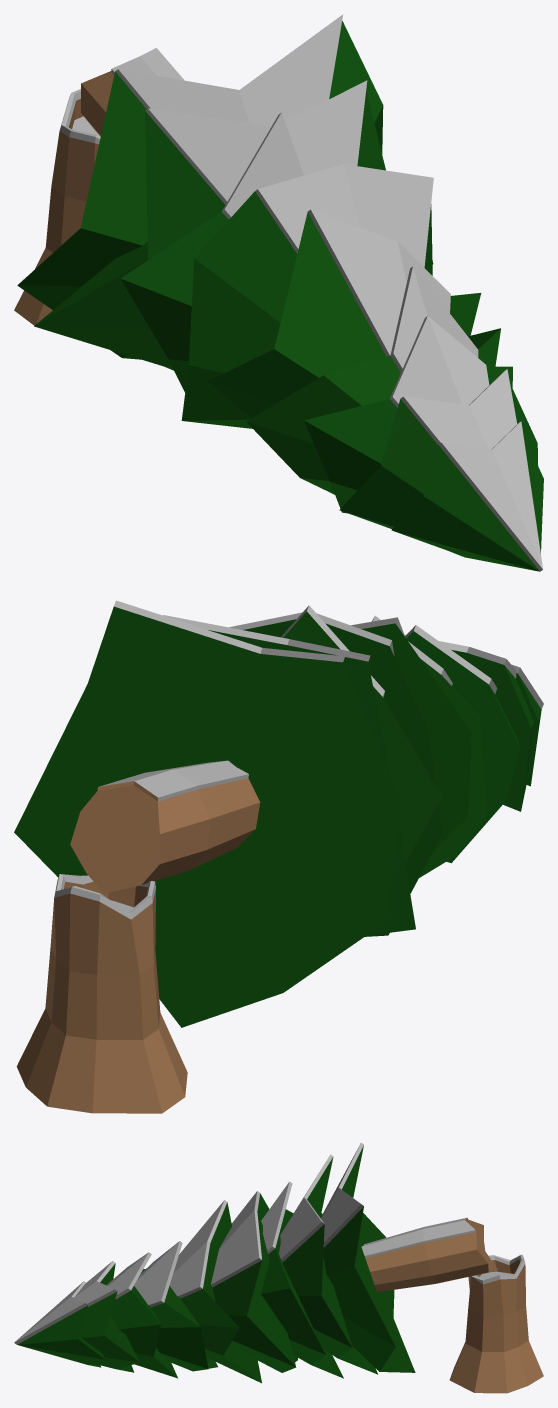
Rendered from Fir_4 Broken Winter.fbx.
3 views of the same model, one above another, from view 1: azimuth 30°, elevation 25°; view 2: azimuth 150°, elevation 25°; view 3: azimuth 270°, elevation 25° (orthographic). The views are drawn at different scales.
Parts seen in each view (by area): view 1: Fir4BrokenWinter_mesh; view 2: Fir4BrokenWinter_mesh; view 3: Fir4BrokenWinter_mesh.
Boxes of the visible parts, x1,y1,x2,y2 form: Fir4BrokenWinter_mesh: [14, 14, 543, 571]; Fir4BrokenWinter_mesh: [14, 600, 543, 1113]; Fir4BrokenWinter_mesh: [14, 1142, 543, 1393].
Bounding box in the file's own units: 474 × 440 × 1047.
